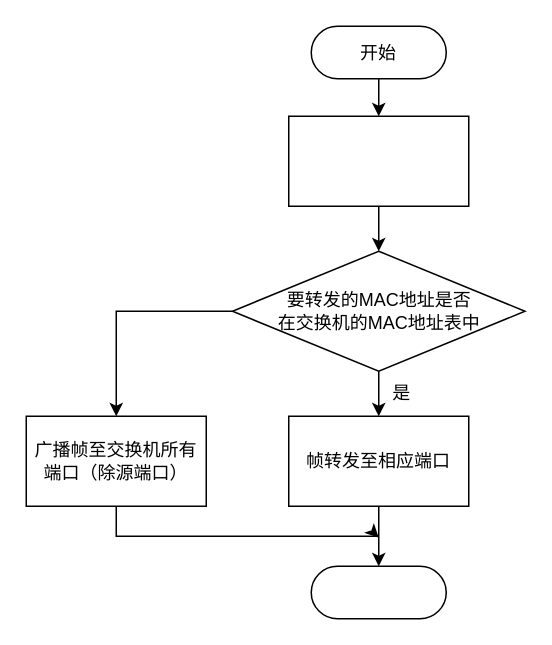
The diagram is 552 pixels wide and 645 high, and some of its shapes have lost their labels. Each missing label, with the centre of its shape:
"结束" goes at [378,592].
"记录该帧源MAC地址与端口号信息" goes at [378,160].
